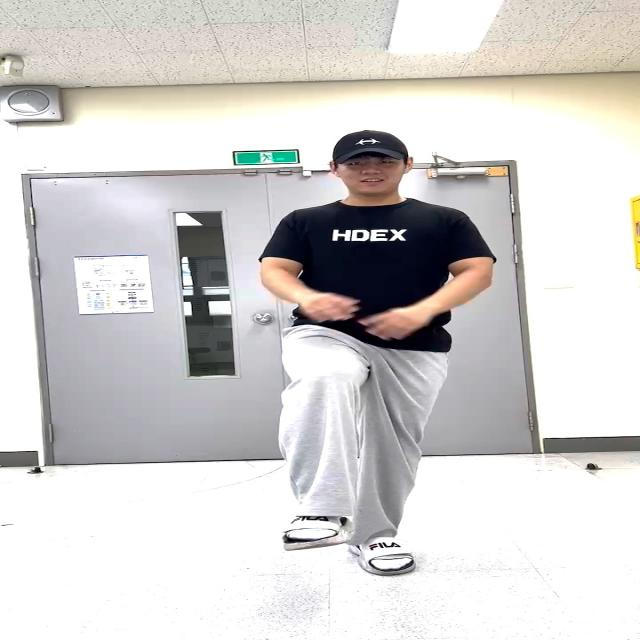leg: (278, 333, 360, 551)
